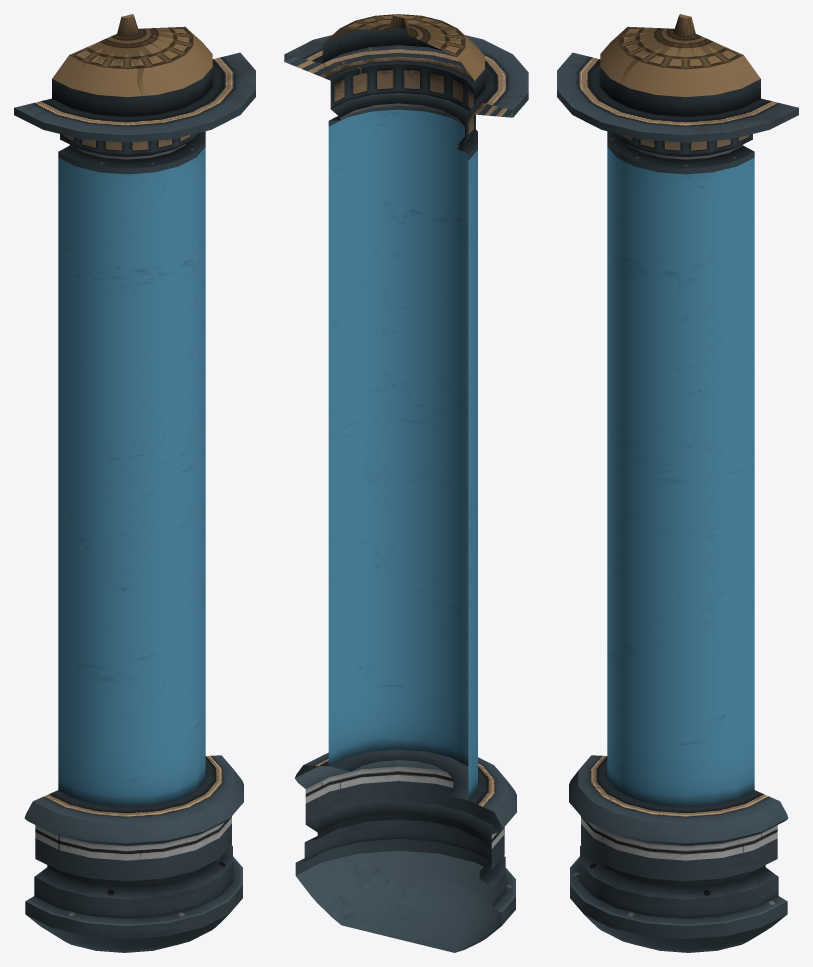
The model's file is Electric Tube Glowing Wall Mounted.fbx.
3 views of the same model, side by side, from view 1: azimuth 30°, elevation 25°; view 2: azimuth 150°, elevation 25°; view 3: azimuth 330°, elevation 25° (orthographic).
Parts seen in each view (by area): view 1: Cylinder; view 2: Cylinder; view 3: Cylinder.
Part boxes in pixels (x1,y1,x2,y2): Cylinder: (14, 14, 255, 952); Cylinder: (284, 14, 528, 952); Cylinder: (557, 14, 798, 952).
Size of the model in its own units: 61.38 by 236 by 30.51.
